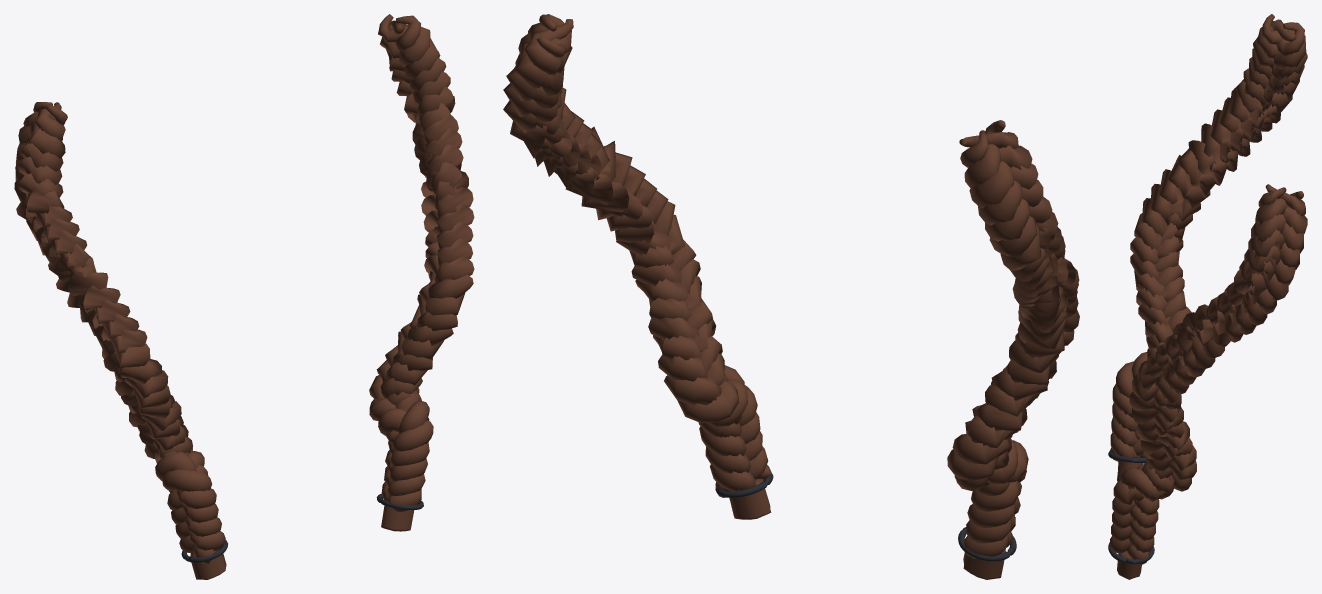
The model's file is Feminine-twin-braids-strappy-lengths251.glb.
3 renders of one model, left to right at view 1: azimuth 30°, elevation 25°; view 2: azimuth 150°, elevation 25°; view 3: azimuth 270°, elevation 25°, orthographic. The views are drawn at different scales.
Parts seen in each view (by area): view 1: 226 hairLengths / Hair / chestnut226, 226 hairLengths / Hair / ties226; view 2: 226 hairLengths / Hair / chestnut226, 226 hairLengths / Hair / ties226; view 3: 226 hairLengths / Hair / chestnut226, 226 hairLengths / Hair / ties226.
Part boxes in pixels (x1,y1,x2,y2): 226 hairLengths / Hair / chestnut226: [14, 14, 474, 579]; 226 hairLengths / Hair / ties226: [181, 494, 423, 562]; 226 hairLengths / Hair / chestnut226: [503, 14, 1079, 579]; 226 hairLengths / Hair / ties226: [715, 474, 1016, 561]; 226 hairLengths / Hair / chestnut226: [1110, 14, 1307, 579]; 226 hairLengths / Hair / ties226: [1108, 451, 1154, 564].
Size of the model in its own units: 1.09 by 1.06 by 0.4447.
